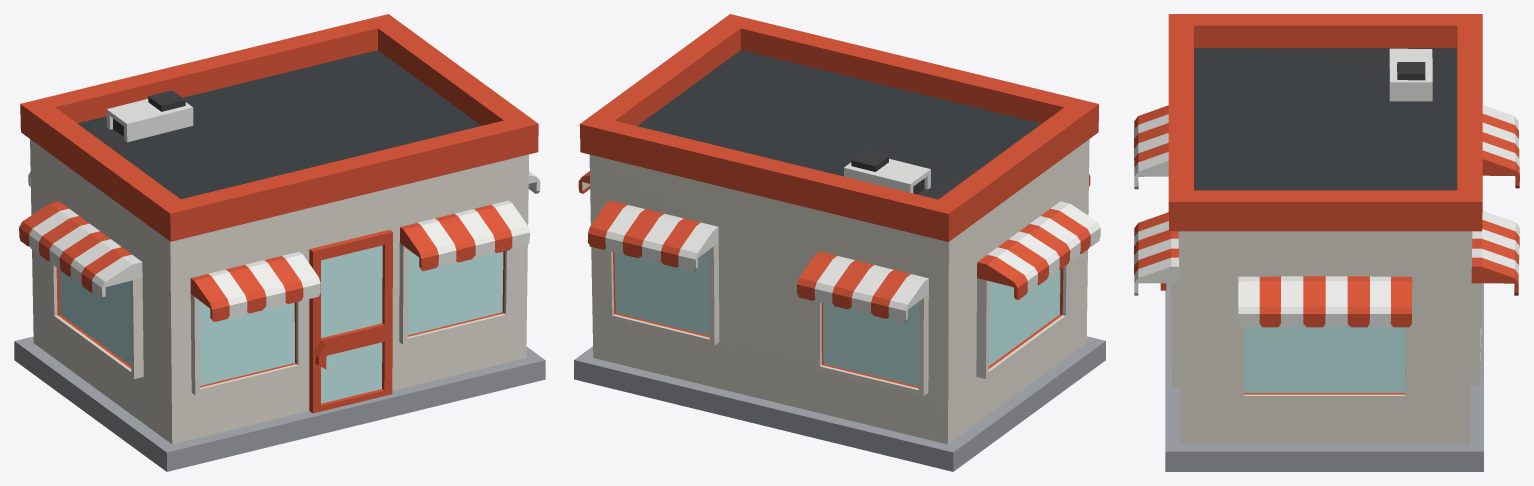
File: shop.glb
The picture shows the model from 3 angles, left to right: view 1: azimuth 30°, elevation 25°; view 2: azimuth 150°, elevation 25°; view 3: azimuth 270°, elevation 25°; orthographic projection. The views are drawn at different scales.
Visible parts, largest first — view 1: Shop; view 2: Shop; view 3: Shop.
Boxes of the visible parts, left/top/right/bottom form: Shop: left=14, top=14, right=545, bottom=471; Shop: left=574, top=14, right=1105, bottom=471; Shop: left=1134, top=14, right=1519, bottom=471.
Bounding box in the file's own units: 2.48 × 1.39 × 1.8.
1 material, 1 textured.
